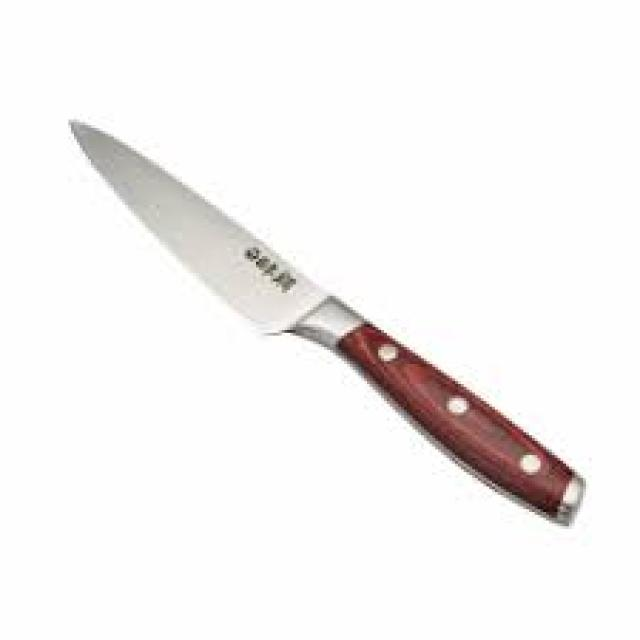knife: (66, 115, 589, 541)
